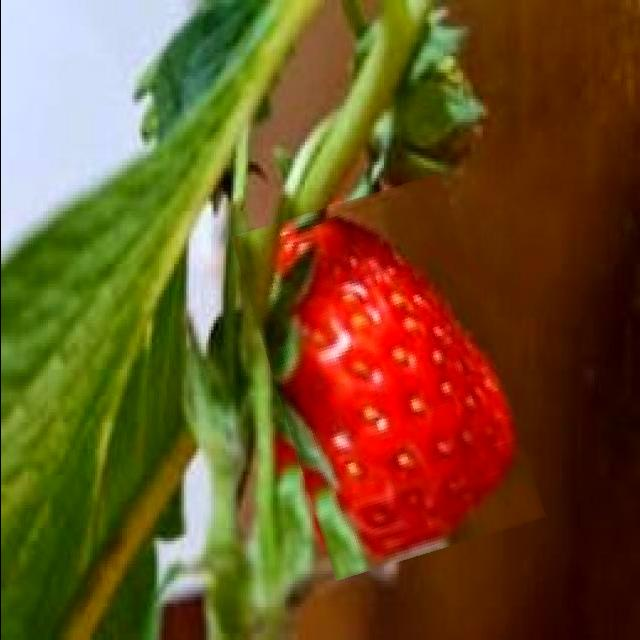strawberry: (254, 185, 522, 569)
